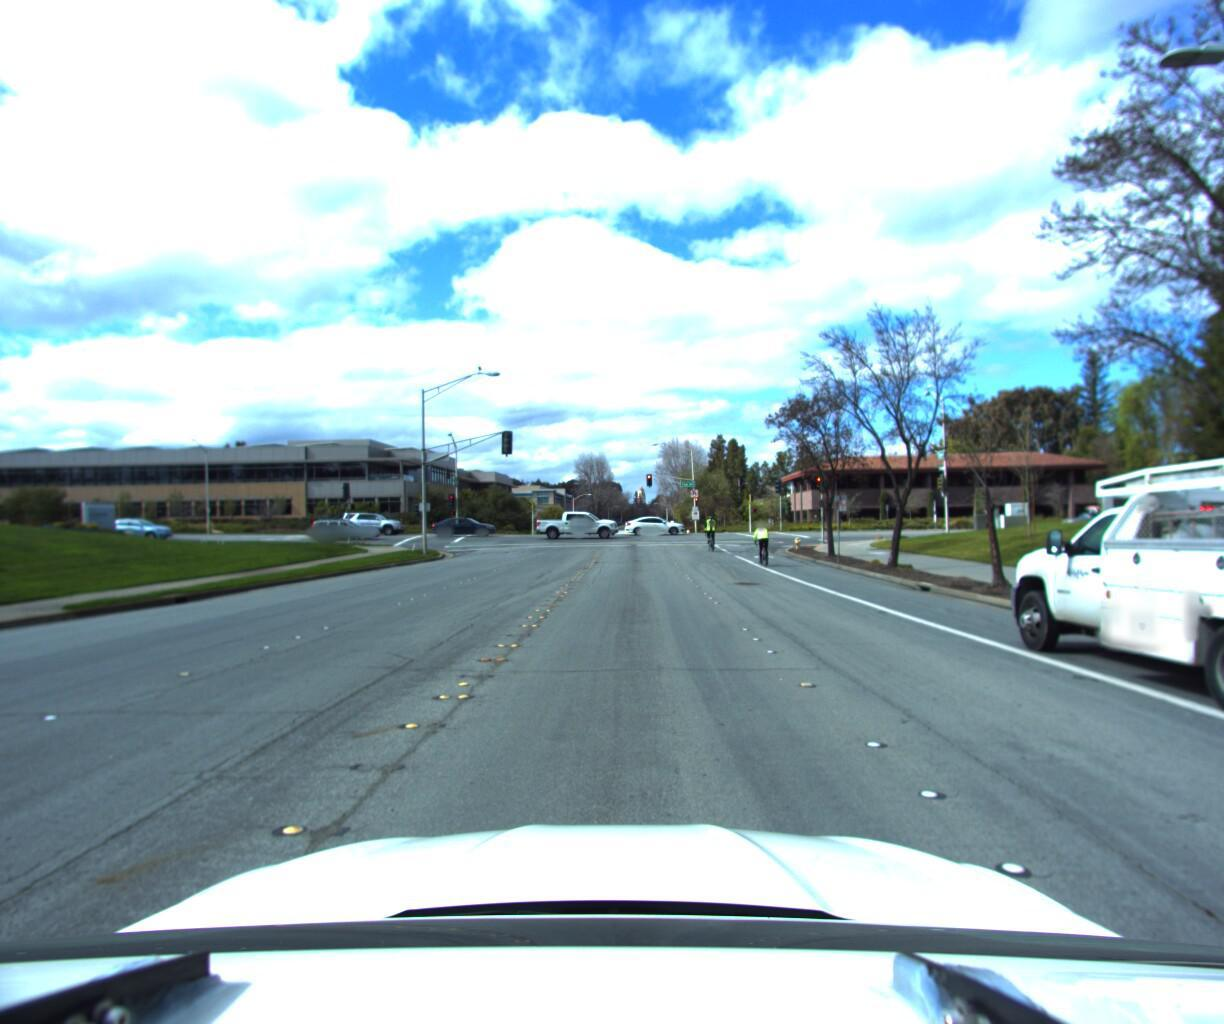bicycle: (750, 520, 775, 566), (699, 514, 720, 551)
car: (536, 513, 620, 539), (313, 520, 388, 544), (104, 524, 185, 546), (340, 513, 409, 537), (623, 516, 687, 539), (434, 519, 502, 540)
truck: (974, 0, 1224, 1024)
